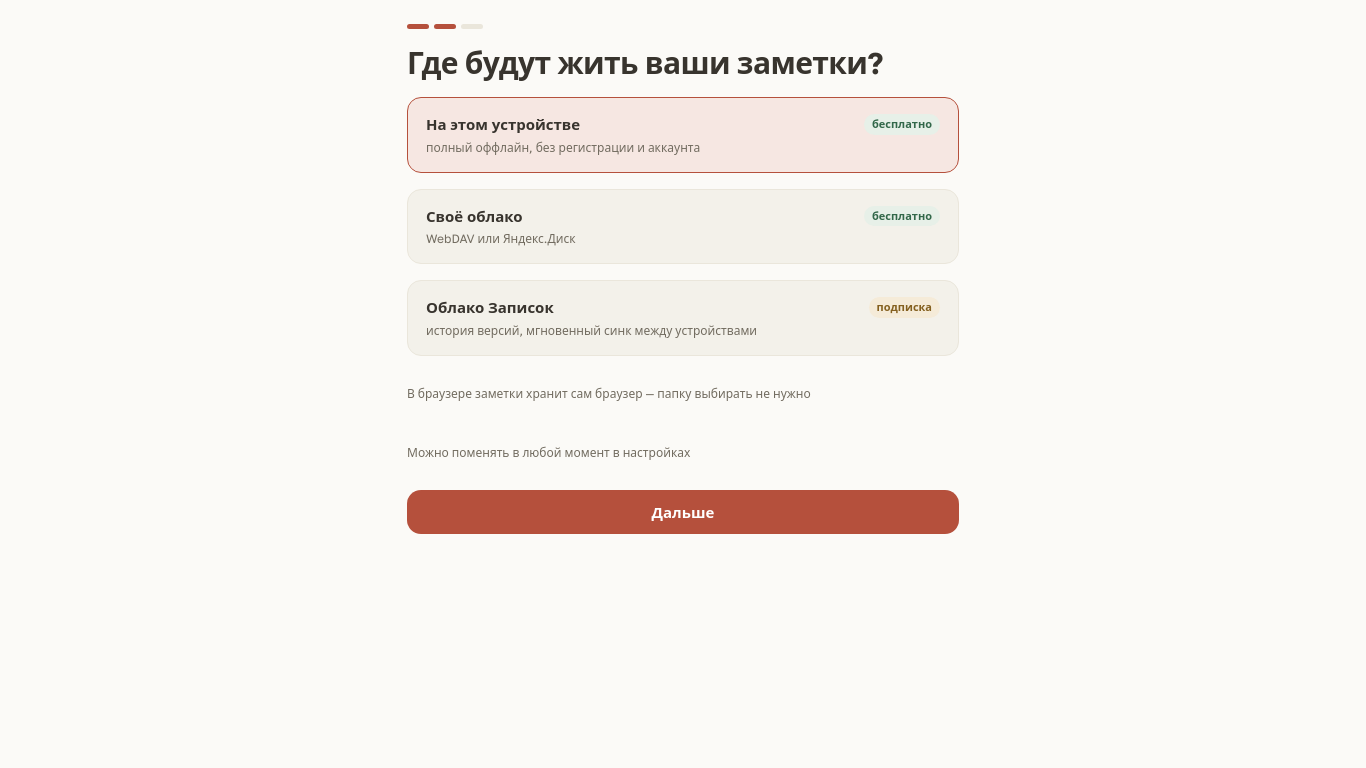
it: онбординг в браузере › не открывает выбор папки даже тогда, когда браузер отказал в хранилище
Click the button "Дальше": click(683, 512) [407,490,959,534]
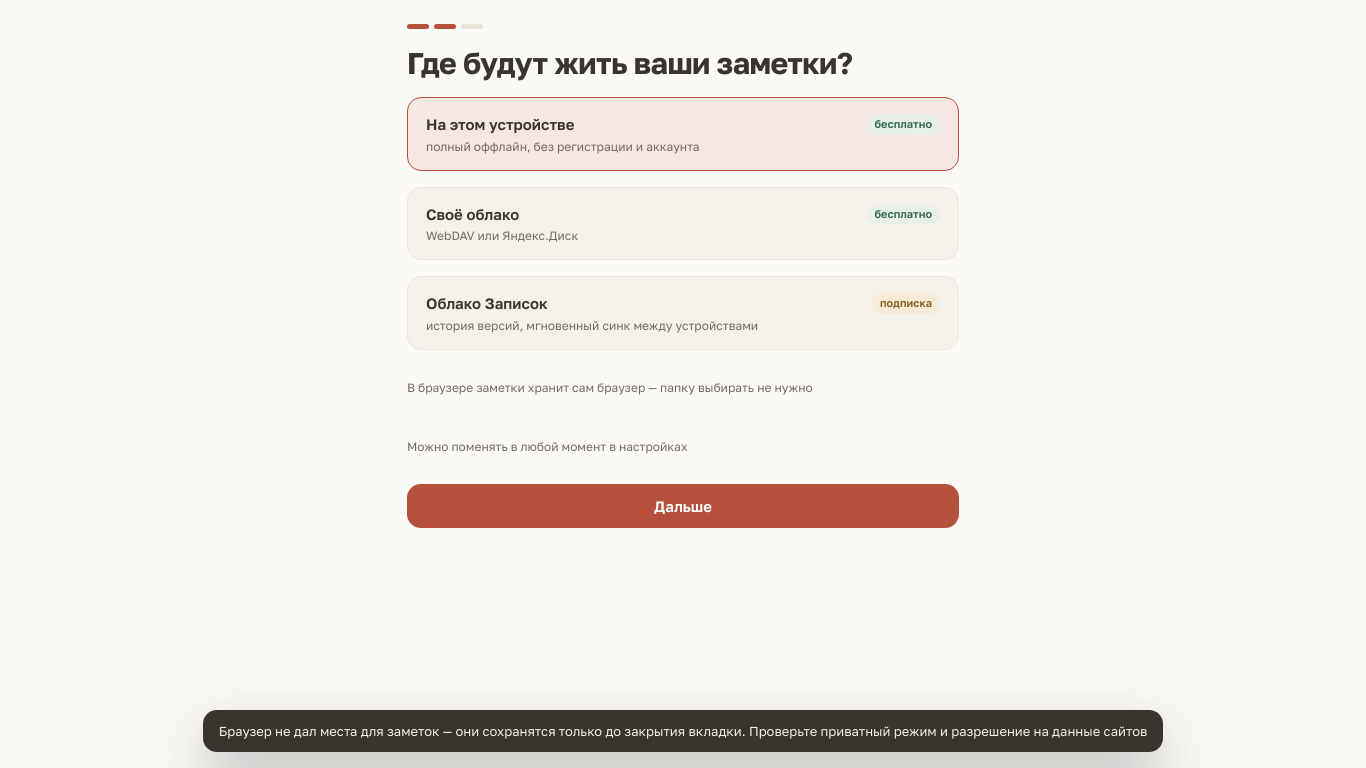
Check: the text "Браузер не дал места для заметок — они сохранятся только до закрытия вкладки. Проверьте приватный режим и разрешение на " is shown, box [219,723,1147,739]
